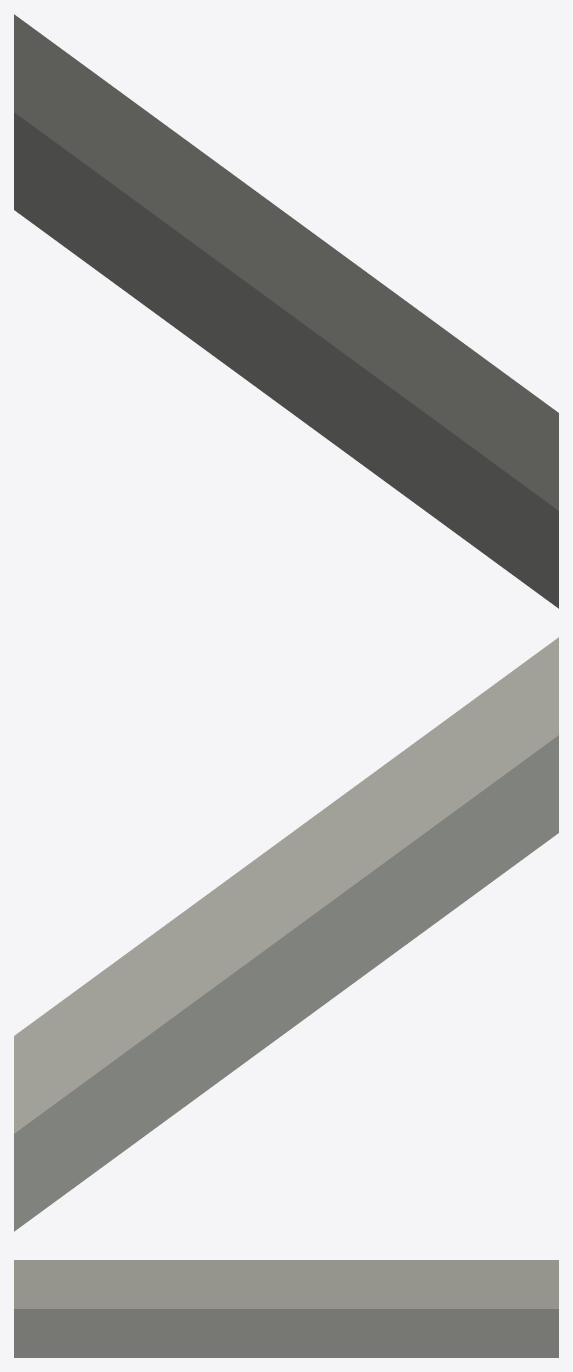
The model's file is Enviro_Wall.fbx.
3 renders of one model, top to bottom at view 1: azimuth 30°, elevation 25°; view 2: azimuth 150°, elevation 25°; view 3: azimuth 270°, elevation 25°, orthographic. The views are drawn at different scales.
Parts seen in each view (by area): view 1: wall; view 2: wall; view 3: wall.
Boxes of the visible parts, left/top/right/bottom form: wall: left=14, top=14, right=558, bottom=608; wall: left=14, top=637, right=558, bottom=1231; wall: left=14, top=1260, right=558, bottom=1357.
Bounding box in the file's own units: 0 × 5 × 25.22.
1 material, 1 textured.
